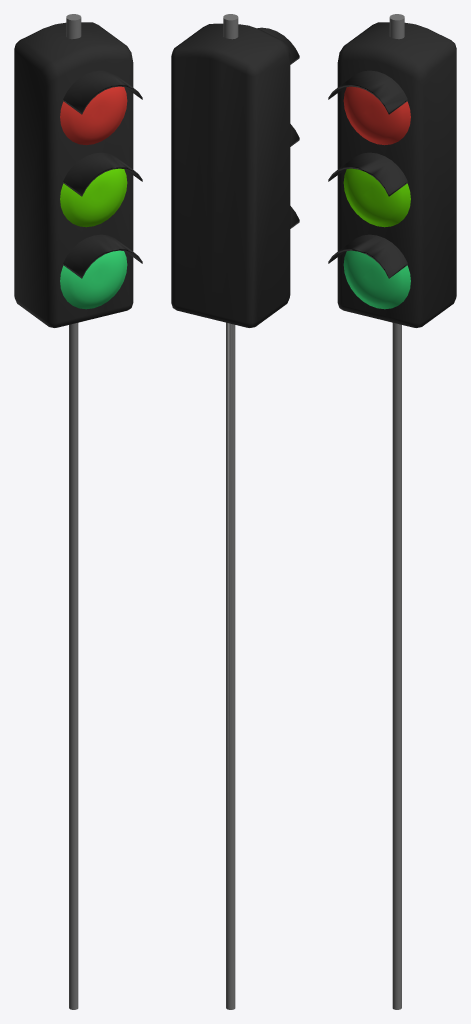
3 renders of one model, left to right at view 1: azimuth 30°, elevation 25°; view 2: azimuth 150°, elevation 25°; view 3: azimuth 330°, elevation 25°, orthographic.
Visible parts, largest first — view 1: Trafik Işığı; view 2: Trafik Işığı; view 3: Trafik Işığı.
Boxes of the visible parts, x1=… form: Trafik Işığı: x1=14, y1=14, x2=142, y2=1009; Trafik Işığı: x1=171, y1=14, x2=299, y2=1009; Trafik Işığı: x1=328, y1=14, x2=456, y2=1009.
Size of the model in its own units: 0.2556 by 0.3014 by 2.81.
